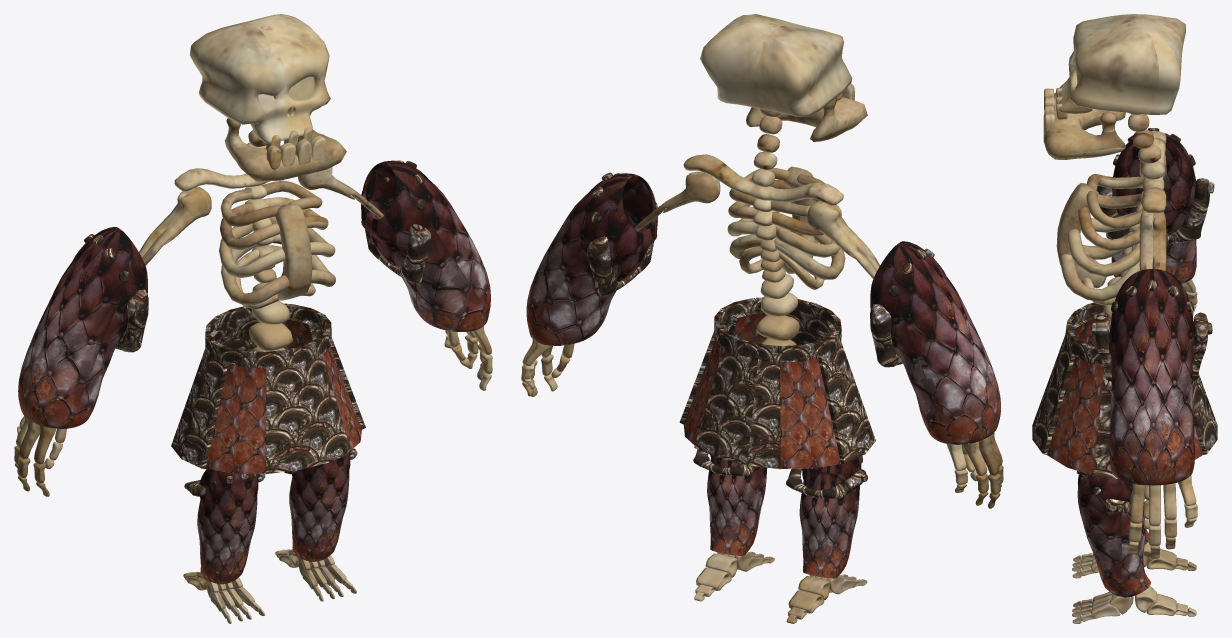
The model's file is skeleton_dummy.FBX.
The picture shows the model from 3 angles, left to right: view 1: azimuth 30°, elevation 25°; view 2: azimuth 150°, elevation 25°; view 3: azimuth 270°, elevation 25°; orthographic projection.
Visible parts, largest first — view 1: faulds, right_arm_armor001, left_arm_armor, head, right_leg_armor, left_;eg_armor, jawbone, sternum_bone, right_shoulder_arm_bone, rib_bone_top, rib_bone_under_mid, rib_bone_middle (+5 smaller); view 2: faulds, right_arm_armor001, left_arm_armor, head, right_leg_armor, left_;eg_armor, clavicle_bone, jawbone, right_shoulder_arm_bone, rib_bone_under_mid, left_shoulder_arm_bone, rib_bone_middle (+6 smaller); view 3: left_arm_armor, head, faulds, right_arm_armor001, left_;eg_armor, jawbone, rib_bone_under_mid, sternum_bone, rib_bone_middle, left_shoulder_arm_bone, rib_bone_over_mid, rib_bone_top (+14 smaller).
Boxes of the visible parts, <box> form: faulds: <box>171,303,365,473</box>; right_arm_armor001: <box>18,227,148,428</box>; left_arm_armor: <box>361,160,490,331</box>; head: <box>190,14,330,143</box>; right_leg_armor: <box>184,469,265,584</box>; left_;eg_armor: <box>284,448,357,561</box>; jawbone: <box>224,112,346,181</box>; sternum_bone: <box>275,204,312,300</box>; right_shoulder_arm_bone: <box>139,186,211,265</box>; rib_bone_top: <box>220,180,322,226</box>; rib_bone_under_mid: <box>221,234,335,305</box>; rib_bone_middle: <box>219,216,335,277</box>; faulds: <box>679,297,875,469</box>; right_arm_armor001: <box>870,241,1000,444</box>; left_arm_armor: <box>526,172,657,345</box>; head: <box>700,14,852,117</box>; right_leg_armor: <box>786,456,867,578</box>; left_;eg_armor: <box>693,449,767,555</box>; clavicle_bone: <box>683,154,843,205</box>; jawbone: <box>746,97,867,141</box>; right_shoulder_arm_bone: <box>807,200,879,278</box>; rib_bone_under_mid: <box>729,227,845,279</box>; left_shoulder_arm_bone: <box>633,171,720,231</box>; rib_bone_middle: <box>727,202,840,257</box>; left_arm_armor: <box>1091,269,1212,485</box>; head: <box>1058,14,1185,114</box>; faulds: <box>1032,302,1217,478</box>; right_arm_armor001: <box>1096,128,1214,283</box>; left_;eg_armor: <box>1076,471,1150,597</box>; jawbone: <box>1043,92,1125,159</box>; rib_bone_under_mid: <box>1060,231,1139,301</box>; sternum_bone: <box>1056,183,1106,288</box>; rib_bone_middle: <box>1067,211,1139,277</box>; left_shoulder_arm_bone: <box>1139,210,1166,271</box>; rib_bone_over_mid: <box>1078,194,1142,251</box>; rib_bone_top: <box>1086,174,1143,229</box>.
Size of the model in its own units: 184 by 211 by 61.86.
3 materials, 3 textured.
